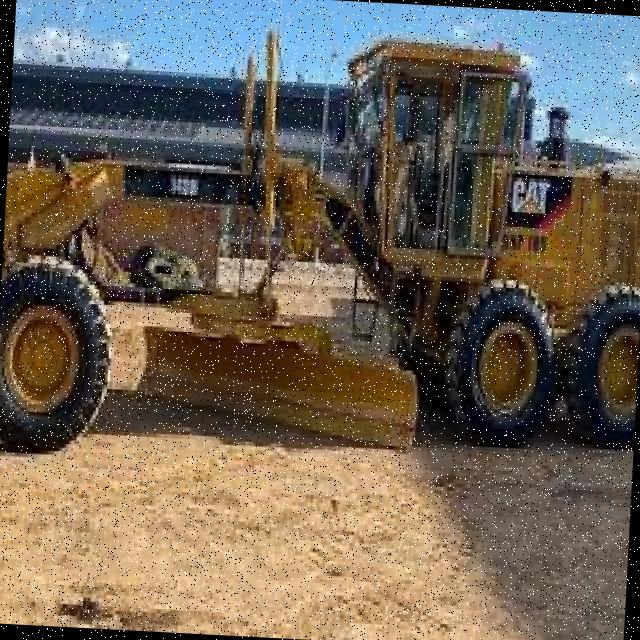Grader: (0, 6, 640, 545)
